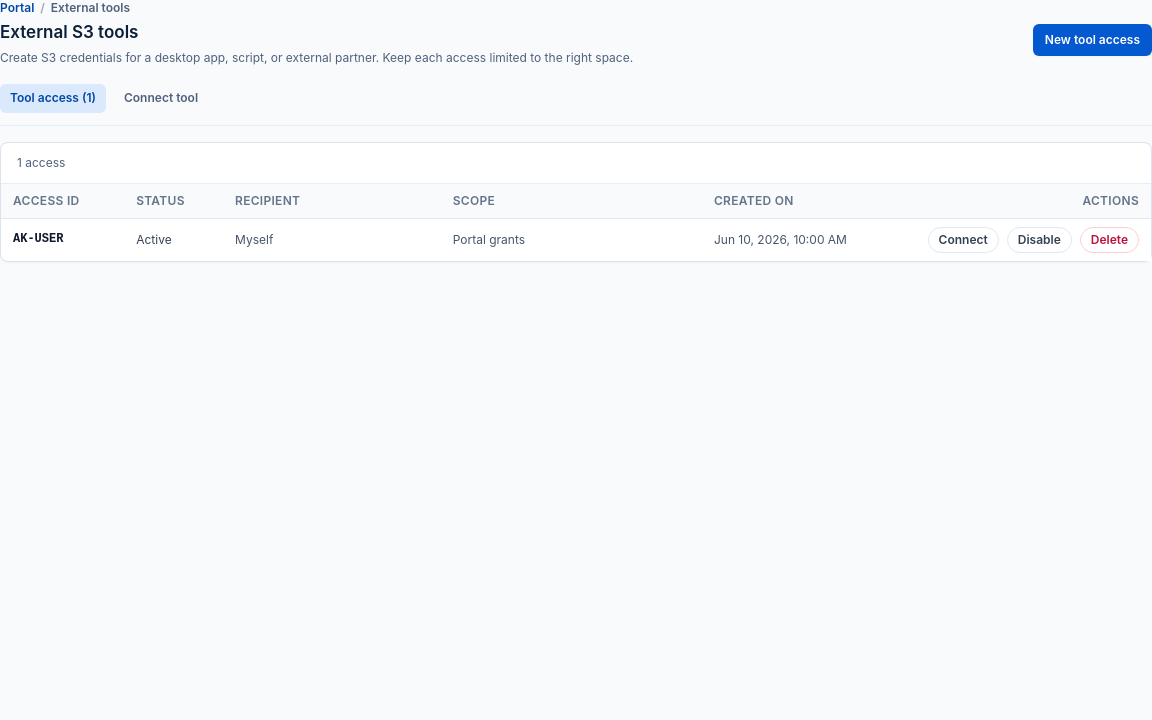
it: PortalAccessKeysPage › shows an actionable empty state when a personal access has no Space
Click the tab "Connect tool": x=161, y=98 [114,84,208,112]
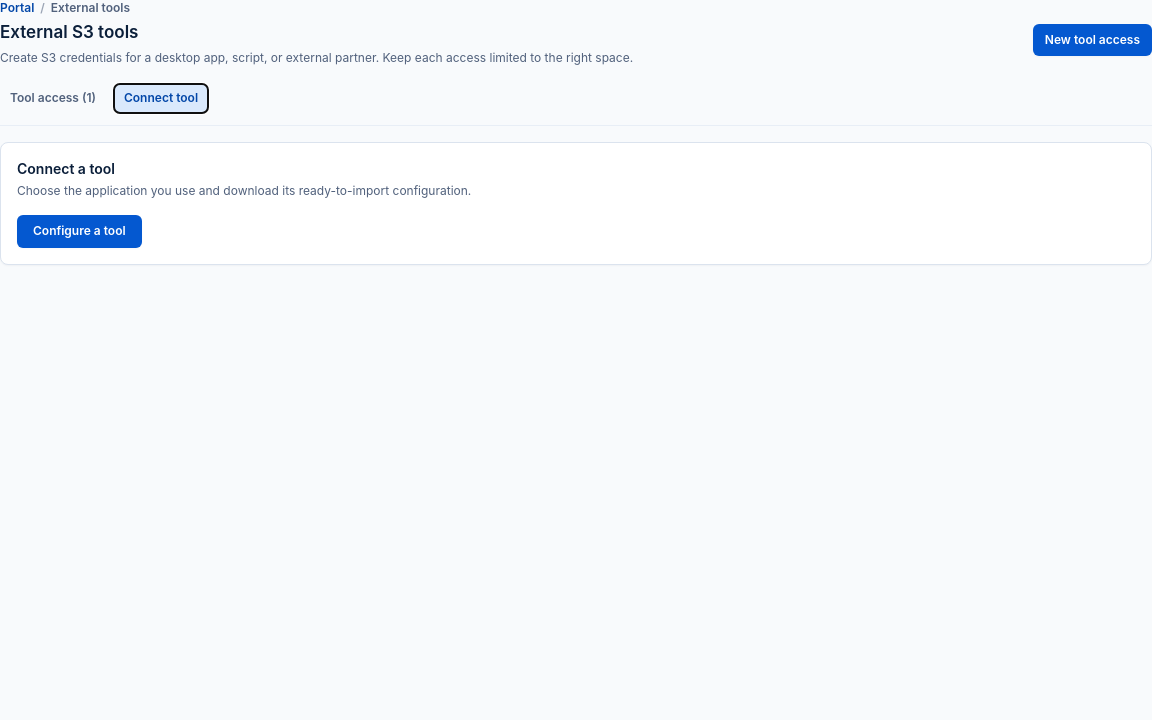
Click the button "Configure a tool": x=79, y=231 [17,215,142,248]
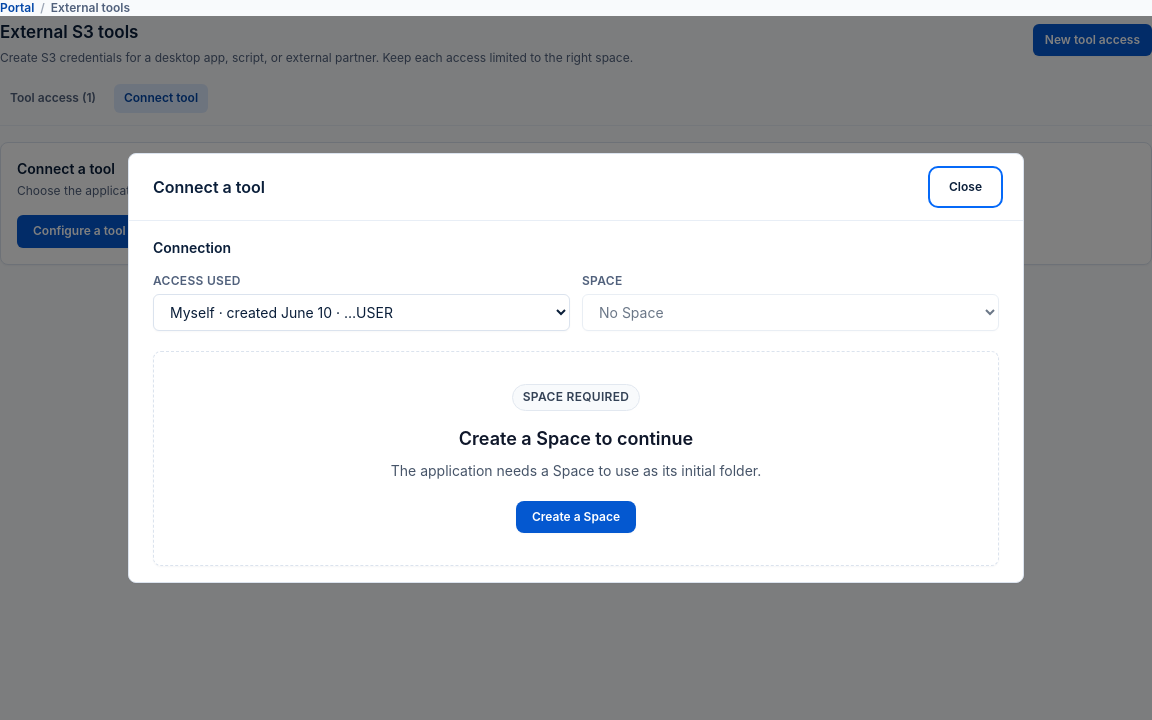
Now the heading "Create a Space to continue" is shown, box [459,428,693,449]
